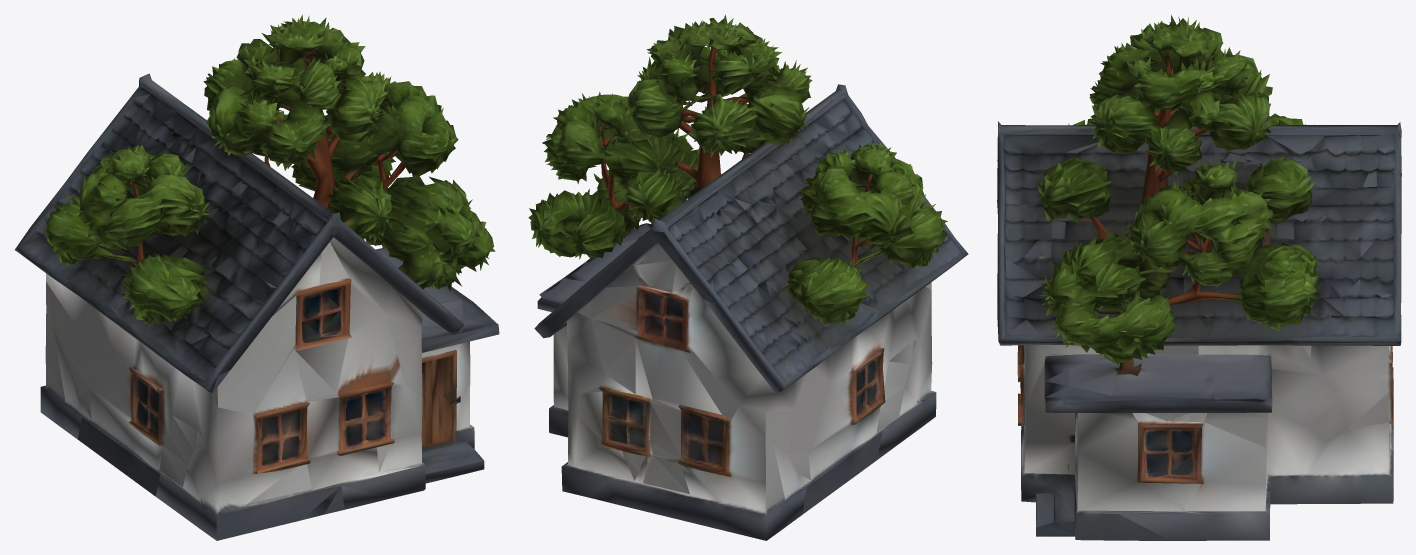
The model's file is cottage.glb.
The picture shows the model from 3 angles, left to right: view 1: azimuth 30°, elevation 25°; view 2: azimuth 150°, elevation 25°; view 3: azimuth 270°, elevation 25°; orthographic projection. The views are drawn at different scales.
Parts seen in each view (by area): view 1: tripo_node_135ae793; view 2: tripo_node_135ae793; view 3: tripo_node_135ae793.
Boxes of the visible parts, bbox=[...] form: tripo_node_135ae793: bbox=[15, 14, 499, 540]; tripo_node_135ae793: bbox=[528, 14, 968, 540]; tripo_node_135ae793: bbox=[997, 15, 1401, 540].
Bounding box in the file's own units: 0.8848 × 1 × 0.814.
Materials: 1 (1 with a texture image).
